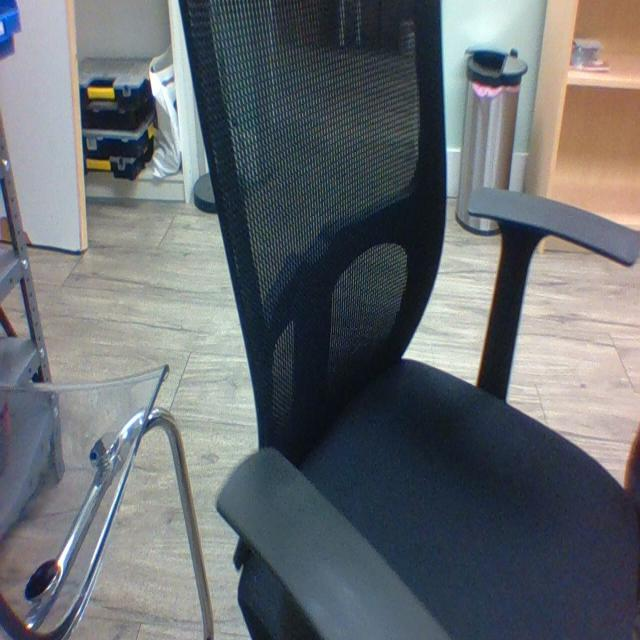black-chair: (172, 5, 640, 639)
